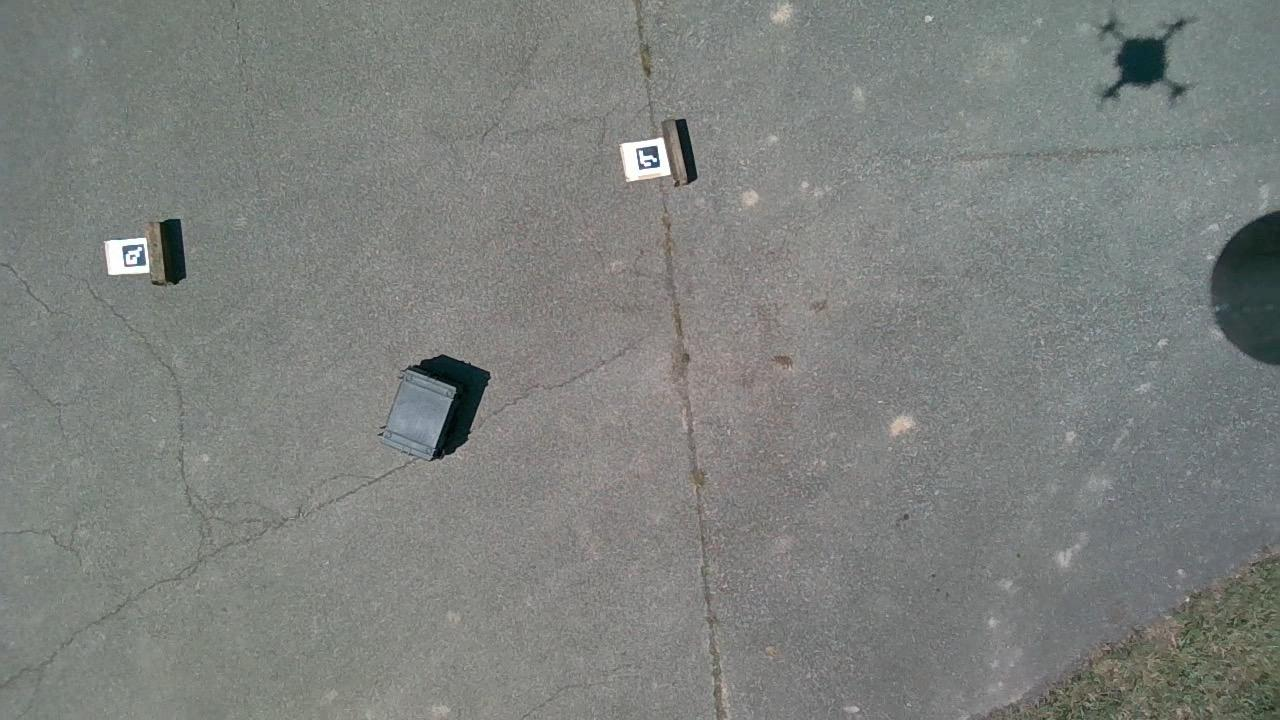rako: (383, 368, 458, 458)
